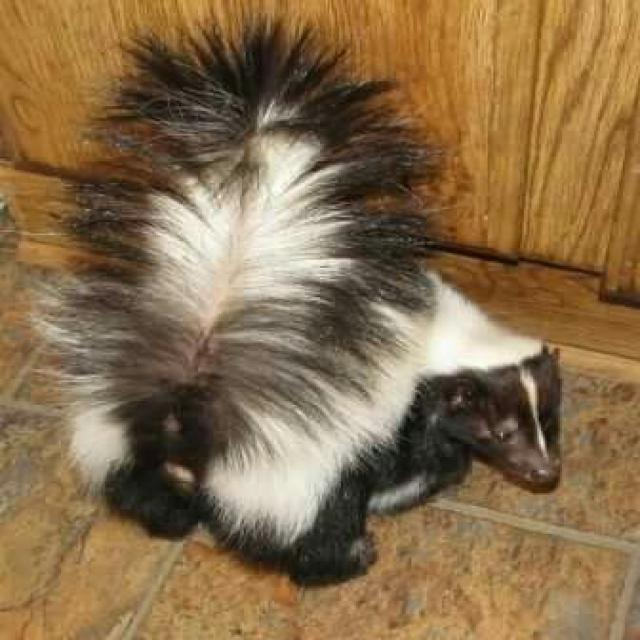Skunk: (0, 23, 598, 591)
